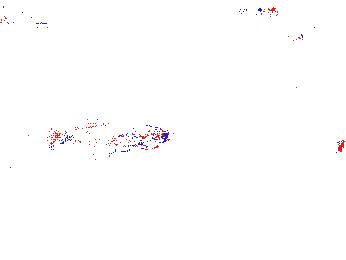X-ray fish: (14, 1, 62, 17)
red belly glassfish: (239, 3, 280, 20), (286, 26, 318, 46)
redtail glassfish: (38, 117, 174, 160), (1, 3, 51, 40)
